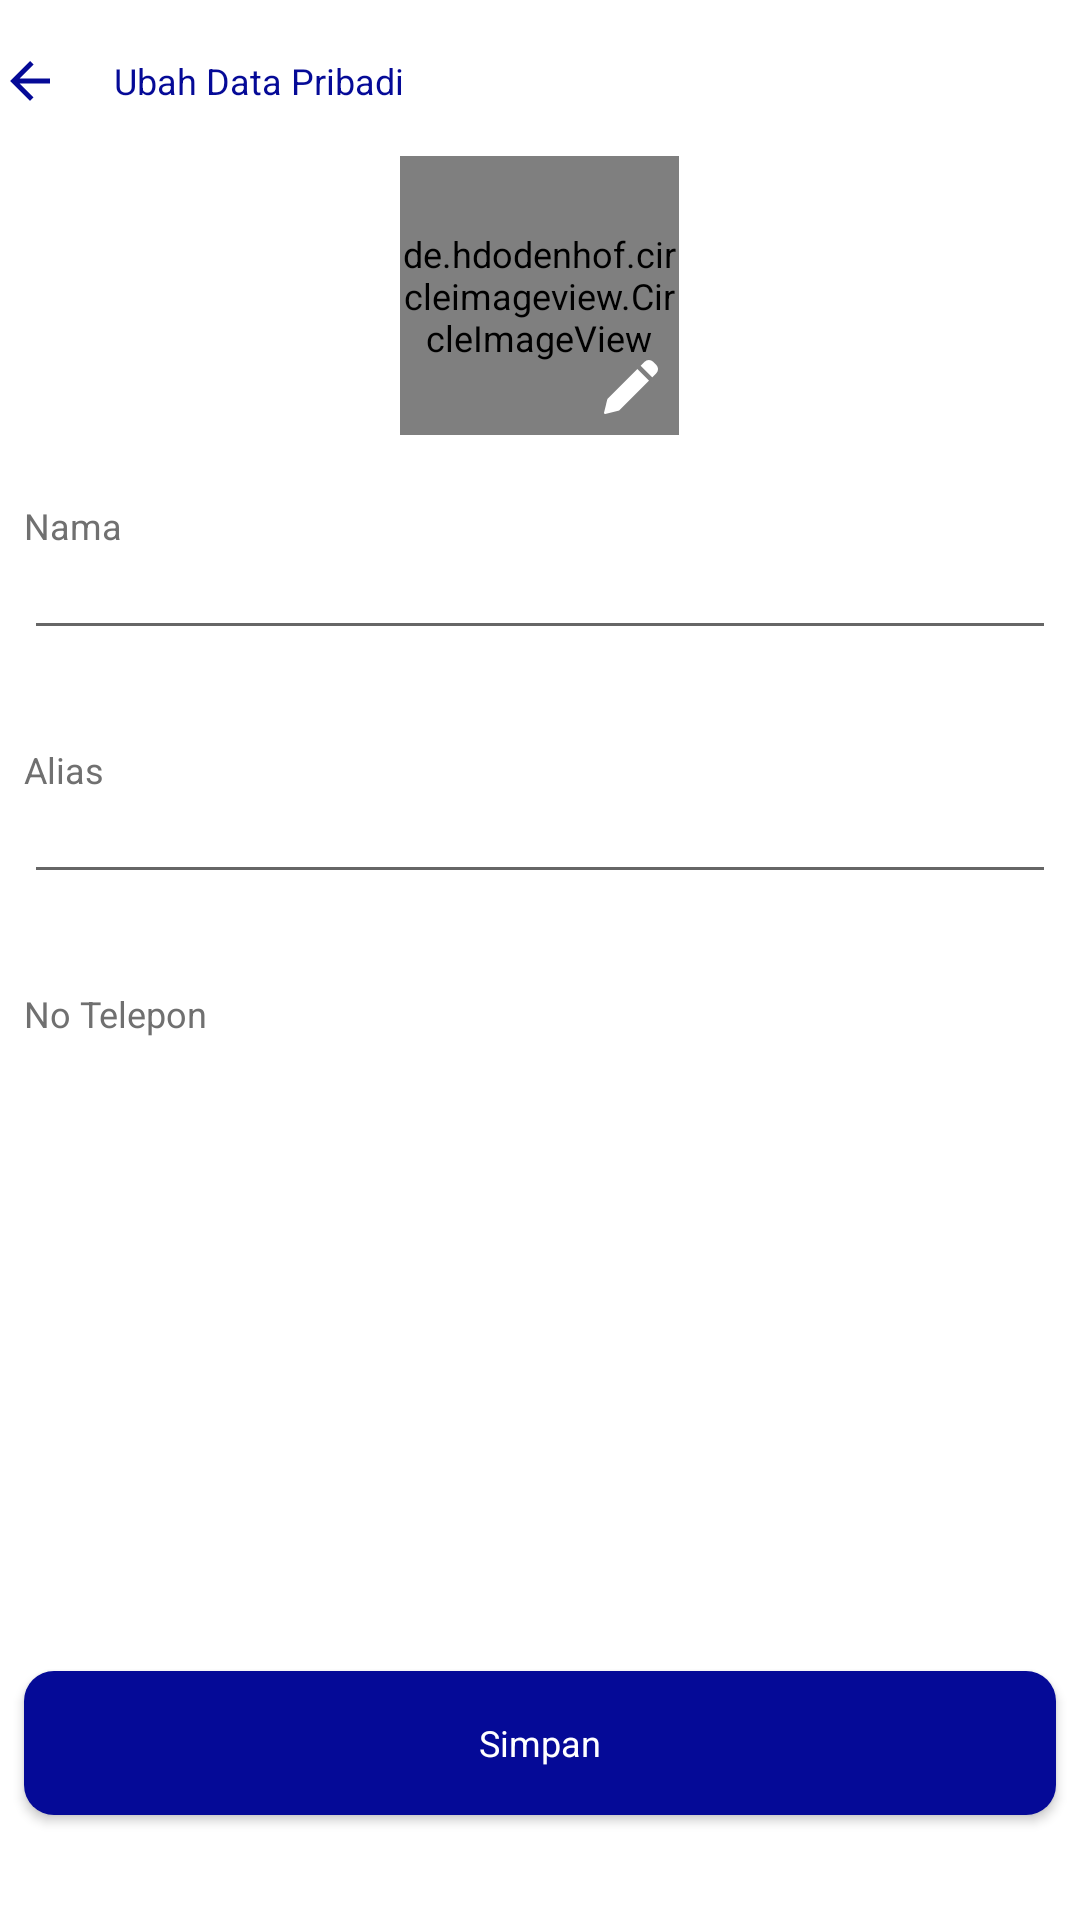

Point at icon controls on the screen. Image size 1080x1920, points as (x=x, y=y).
back: (x=30, y=81)
edit: (x=631, y=387)
